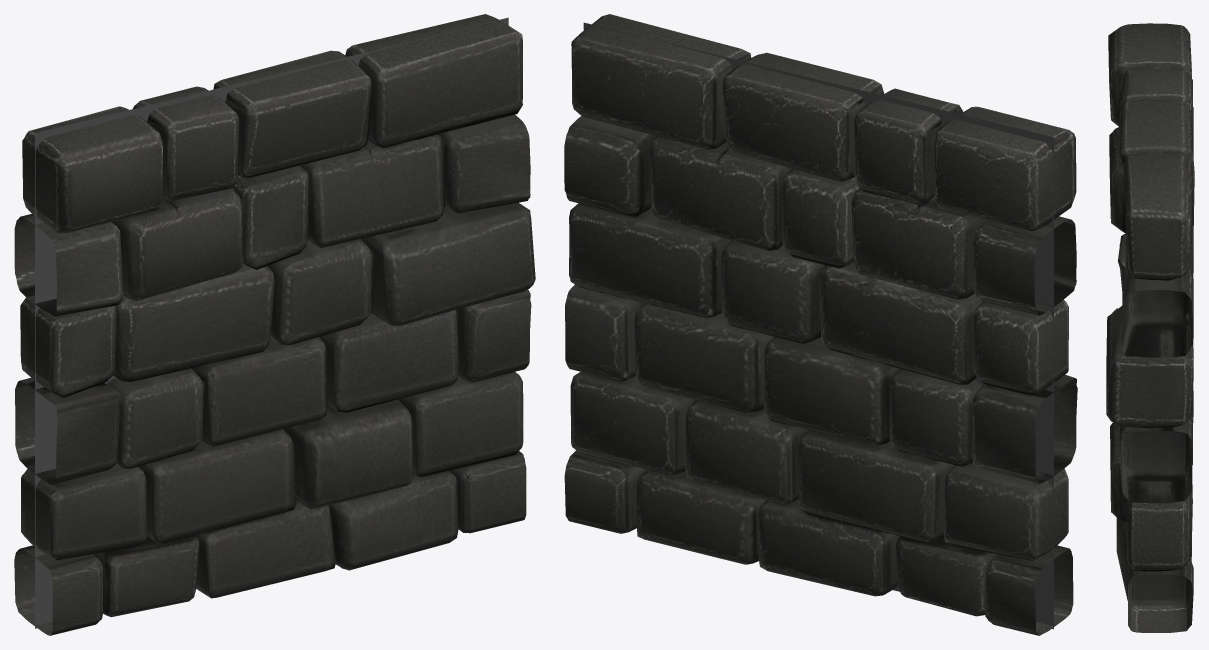
Rendered from Wall_03.fbx.
The picture shows the model from 3 angles, left to right: view 1: azimuth 30°, elevation 25°; view 2: azimuth 150°, elevation 25°; view 3: azimuth 270°, elevation 25°; orthographic projection. The views are drawn at different scales.
Parts seen in each view (by area): view 1: Wall_03; view 2: Wall_03; view 3: Wall_03.
Boxes of the visible parts, x1,y1,x2,y2 form: Wall_03: (14,14,535,635); Wall_03: (564,14,1077,635); Wall_03: (1106,23,1194,632).
Size of the model in its own units: 301 by 300 by 56.69.
